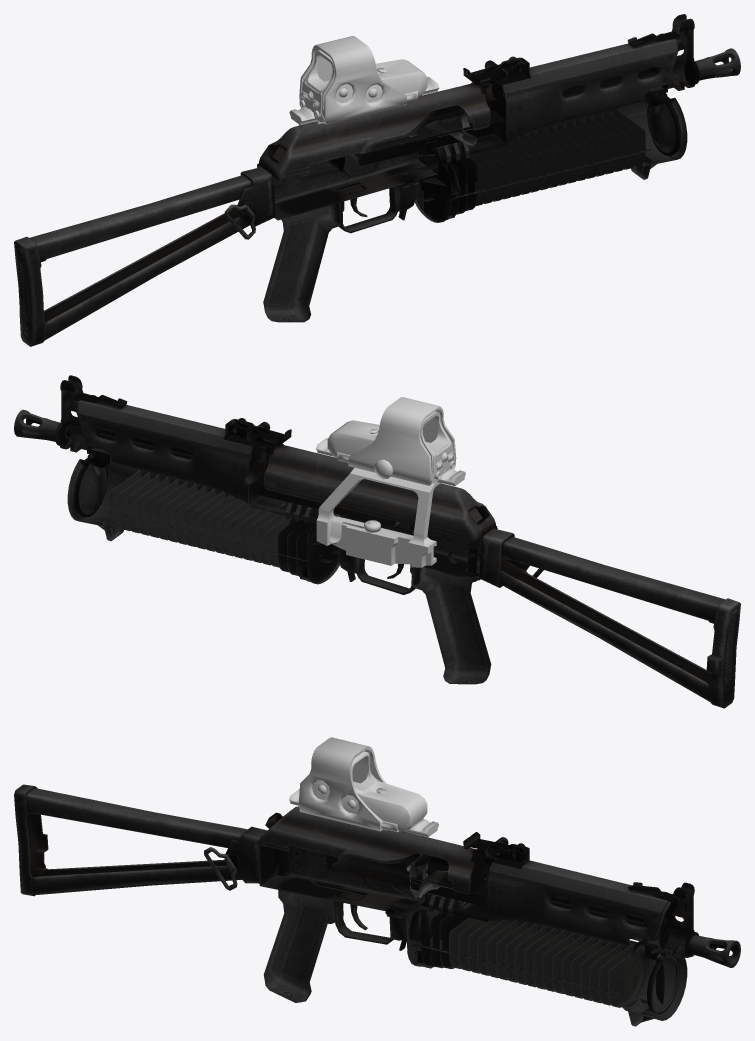
File: PP-Bizon.fbx
3 views of the same model, one above another, from view 1: azimuth 30°, elevation 25°; view 2: azimuth 150°, elevation 25°; view 3: azimuth 330°, elevation 25° (orthographic).
Visible parts, largest first — view 1: Body, Mag, Holo, Reciever, Rail; view 2: Body, Mag, Holo, Rail; view 3: Body, Mag, Holo, Reciever, Rail.
Part boxes in pixels (x1,y1,x2,y2): Body: (14, 14, 740, 346); Mag: (415, 88, 687, 222); Holo: (299, 36, 427, 124); Reciever: (408, 76, 530, 148); Rail: (289, 76, 439, 125); Body: (14, 375, 740, 708); Mag: (67, 449, 339, 584); Holo: (327, 397, 456, 485); Rail: (316, 438, 465, 567); Body: (14, 784, 740, 1002); Mag: (405, 892, 687, 1026); Holo: (298, 737, 427, 832); Reciever: (406, 854, 496, 898); Rail: (289, 789, 438, 837).
Size of the model in its own units: 1377 by 489 by 171.
